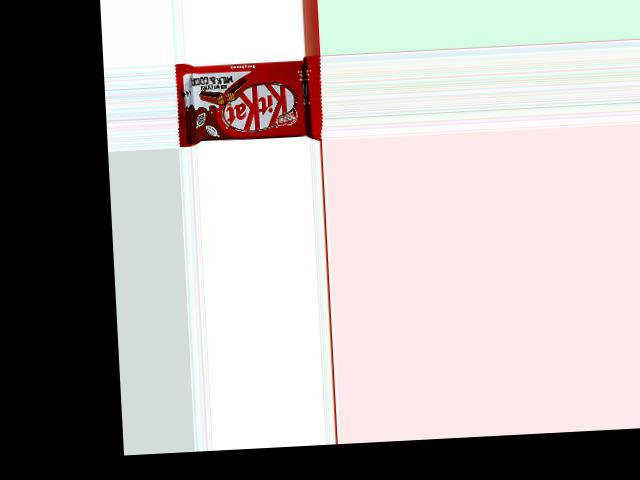chocolate: (173, 55, 323, 147)
